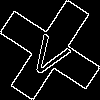V: (25, 25, 77, 82)
